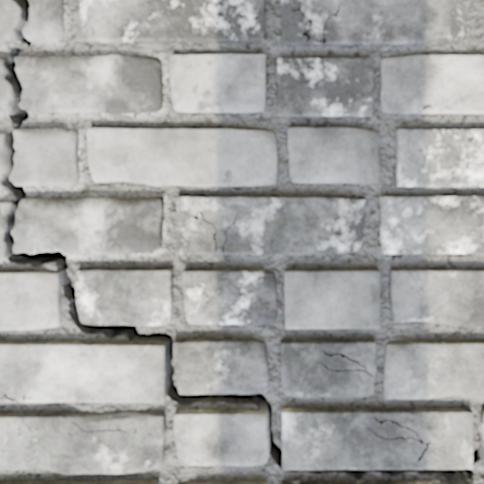brick: (282, 408, 472, 468), (88, 128, 276, 185), (177, 196, 364, 253), (0, 411, 165, 473), (0, 342, 165, 401), (77, 0, 264, 42), (301, 0, 467, 44), (380, 55, 483, 113), (380, 196, 483, 253), (384, 341, 483, 398), (285, 269, 379, 327), (278, 58, 372, 116), (171, 54, 265, 112), (281, 340, 375, 397), (390, 269, 483, 326), (76, 269, 171, 324), (174, 410, 267, 465), (183, 270, 276, 324), (174, 339, 267, 393), (288, 128, 380, 182), (397, 129, 483, 186), (0, 272, 60, 329), (282, 0, 307, 44), (282, 480, 467, 483), (0, 480, 158, 483), (480, 412, 483, 465), (183, 482, 267, 483)
broken_brick: (13, 196, 164, 255), (16, 54, 164, 114), (11, 128, 80, 187), (24, 0, 64, 43), (0, 0, 18, 45), (0, 201, 10, 258), (0, 56, 10, 112), (0, 132, 6, 180)
crack: (0, 0, 481, 483), (317, 349, 374, 377), (192, 209, 217, 254), (316, 3, 341, 44), (291, 0, 312, 44), (221, 213, 238, 254), (416, 103, 432, 113), (0, 393, 17, 402), (480, 402, 483, 412)
